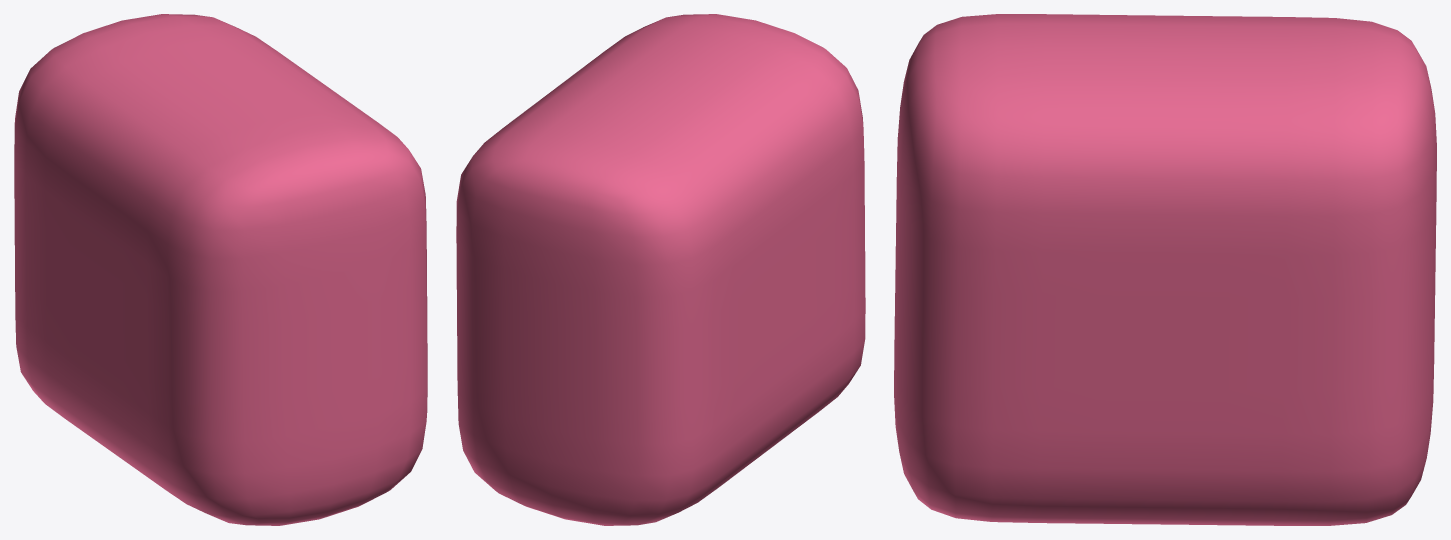
The model's file is amongus maria 1 1-final - 2.glb.
3 views of the same model, side by side, from view 1: azimuth 30°, elevation 25°; view 2: azimuth 150°, elevation 25°; view 3: azimuth 270°, elevation 25° (orthographic). The views are drawn at different scales.
Visible parts, largest first — view 1: Cube.002; view 2: Cube.002; view 3: Cube.002.
Boxes of the visible parts, x1=… form: Cube.002: x1=14, y1=14, x2=427, y2=525; Cube.002: x1=456, y1=14, x2=865, y2=525; Cube.002: x1=894, y1=14, x2=1436, y2=525.
Bounding box in the file's own units: 0.83 × 1.19 × 1.31.
